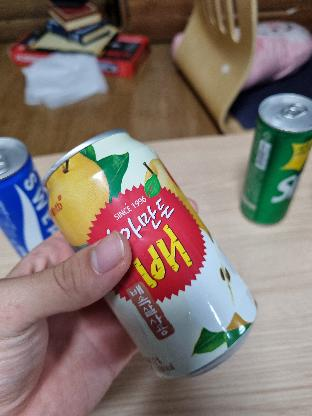Can: (45, 137, 253, 372)
